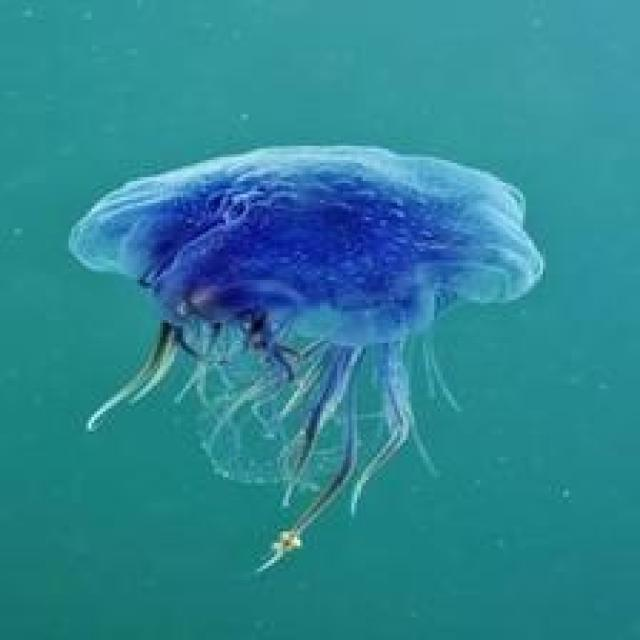Jellyfish: (66, 140, 543, 574)
